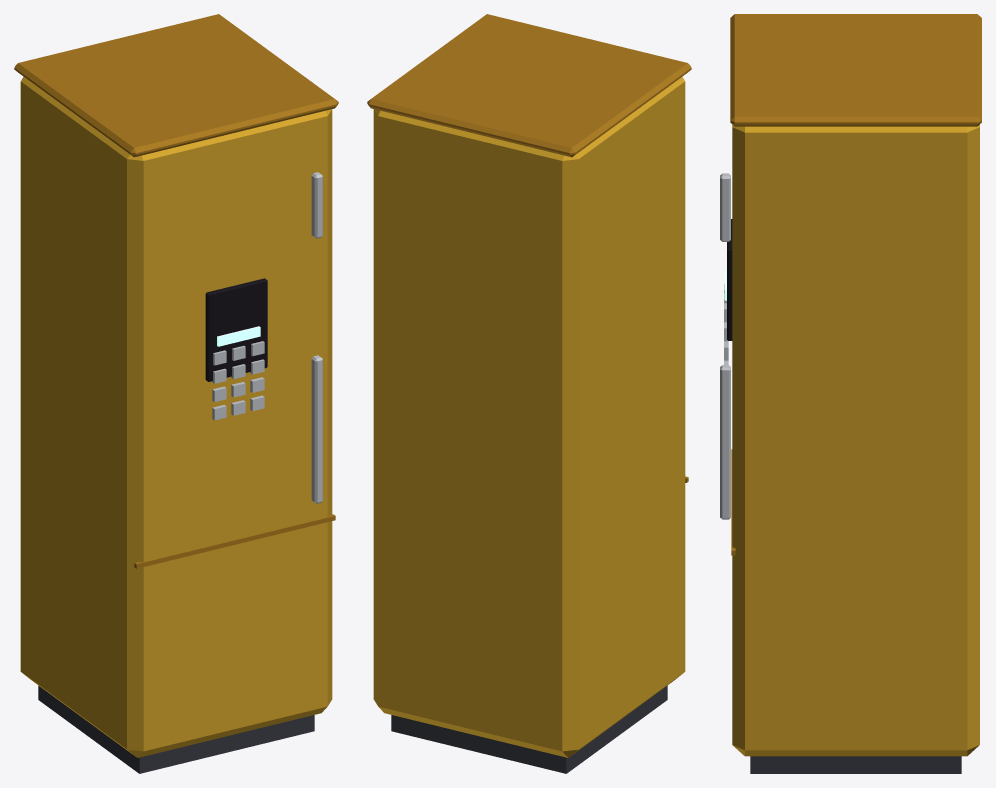
File: beer_fridge.glb
The picture shows the model from 3 angles, left to right: view 1: azimuth 30°, elevation 25°; view 2: azimuth 150°, elevation 25°; view 3: azimuth 270°, elevation 25°; orthographic projection. The views are drawn at different scales.
Visible parts, largest first — view 1: beer_fridge; view 2: beer_fridge; view 3: beer_fridge.
Part boxes in pixels (x1,y1,x2,y2): beer_fridge: [14, 14, 338, 773]; beer_fridge: [367, 14, 691, 773]; beer_fridge: [720, 14, 981, 773].
Size of the model in its own units: 0.69 by 2.01 by 0.718.
